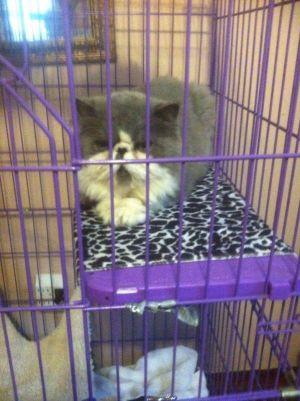persian: (73, 83, 185, 194)
